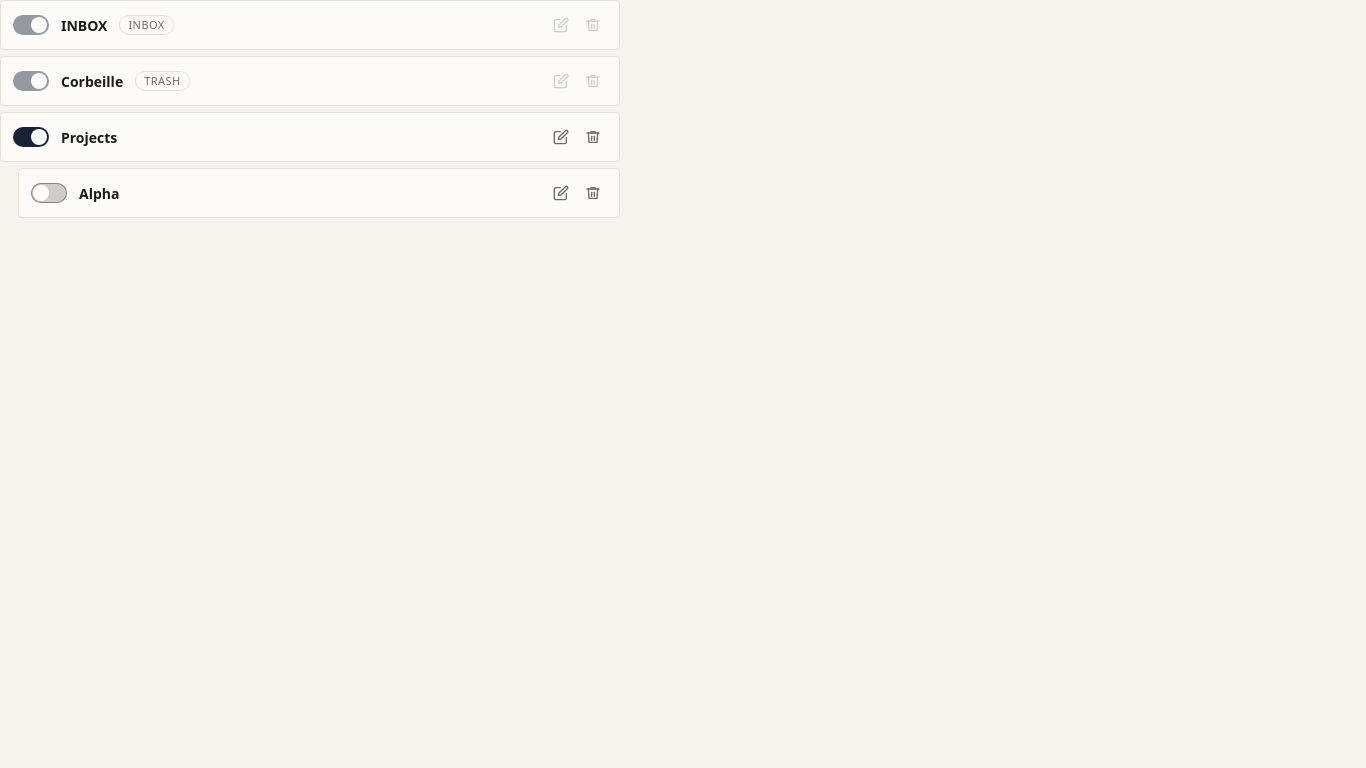
Scenario: renaming a folder › closes the rename dialog on the ✕ without renaming
This screenshot has width=1366, height=768.
Click the button named "Rename Projects". click: (561, 137)
box: [547,123,575,151]
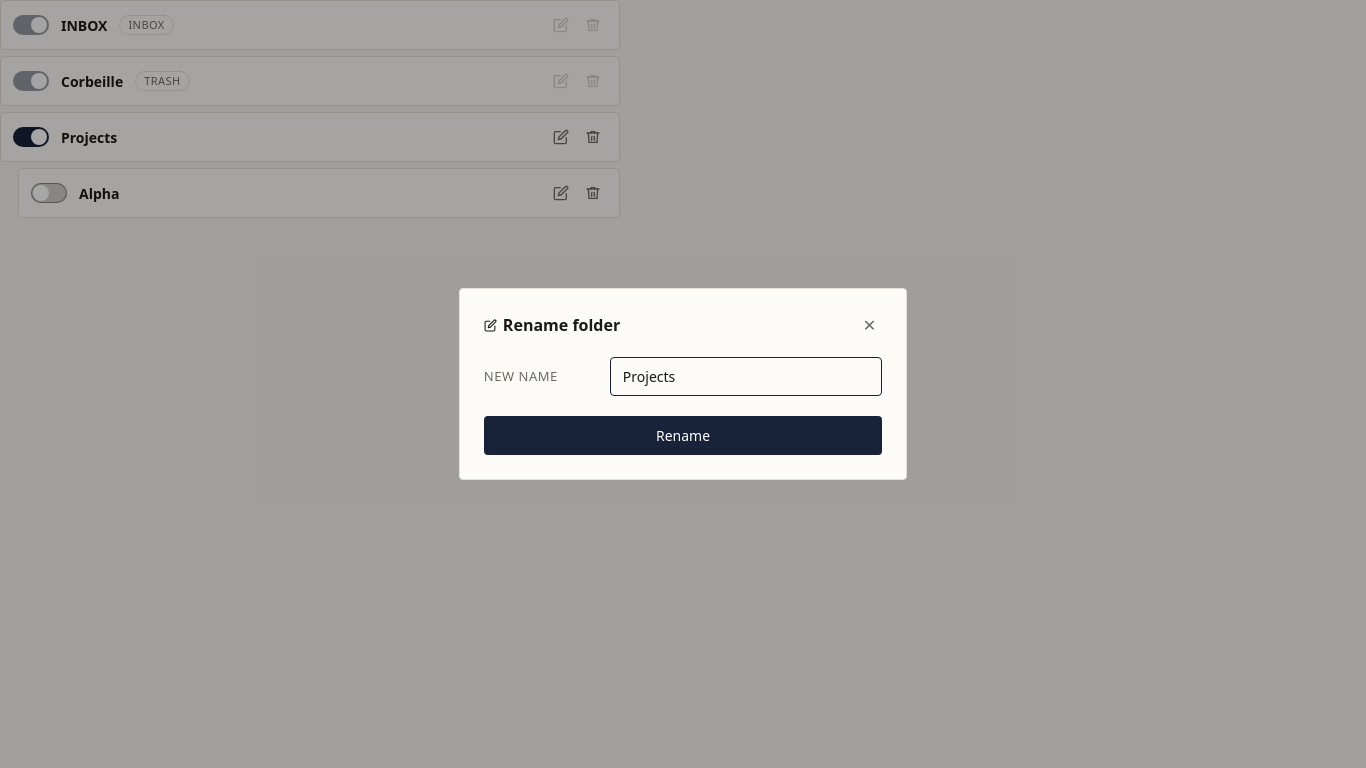
Click the button named "Close". click: (869, 325)
box: [857,314,882,336]
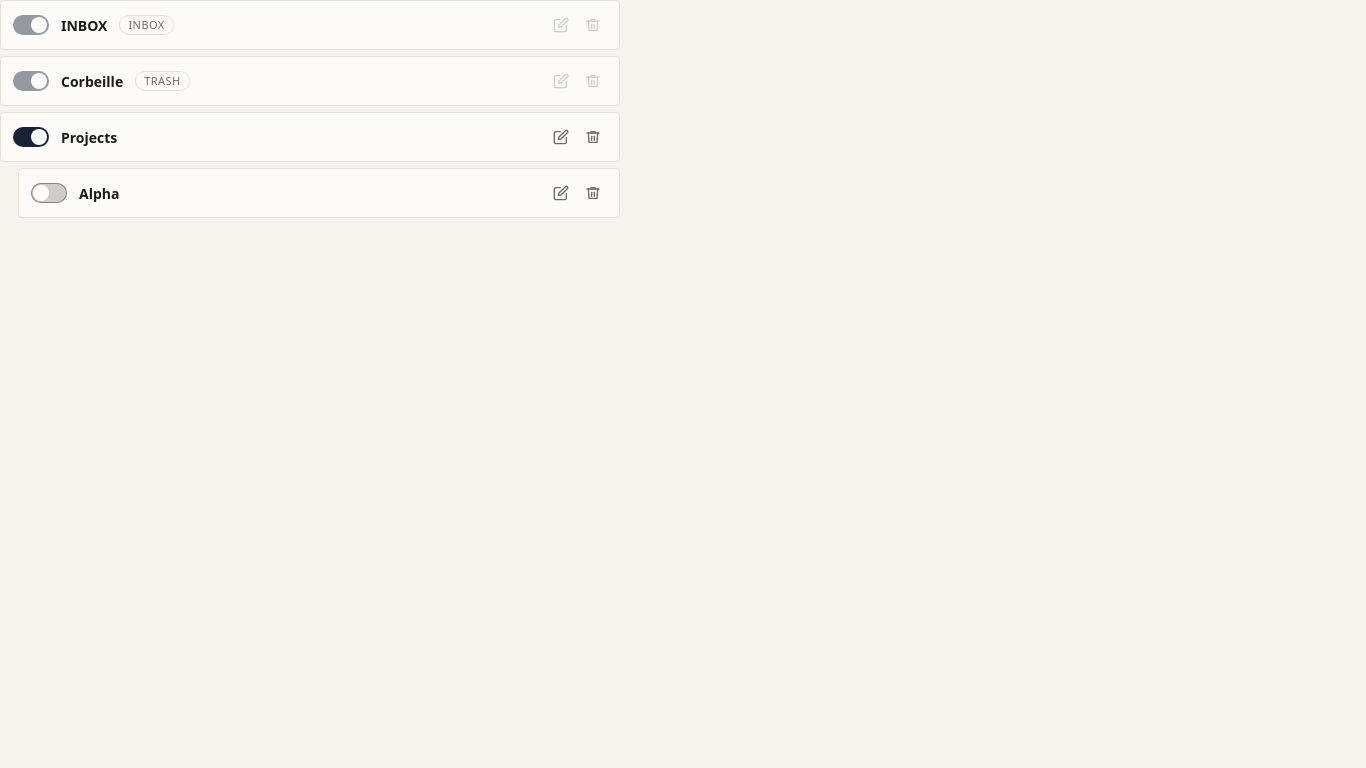
Expected: the label labelled "New name" is gone
